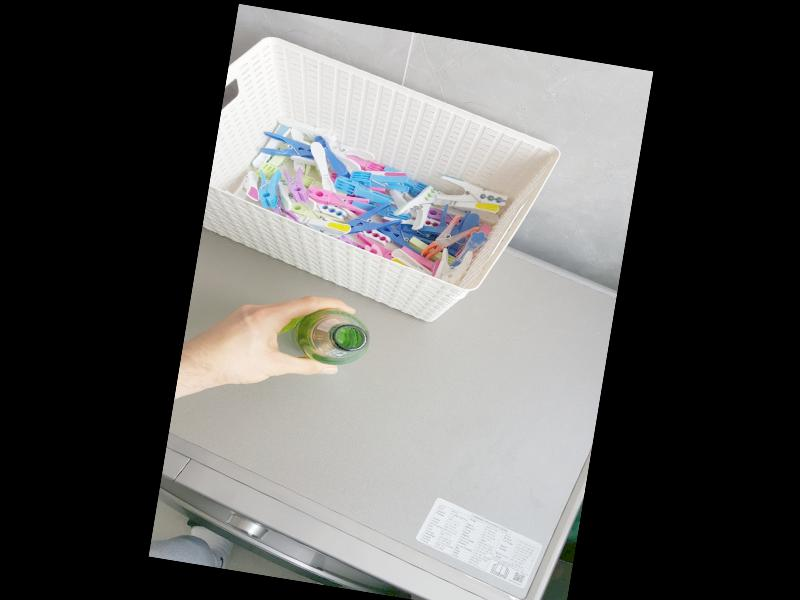Beer: (287, 303, 373, 370)
